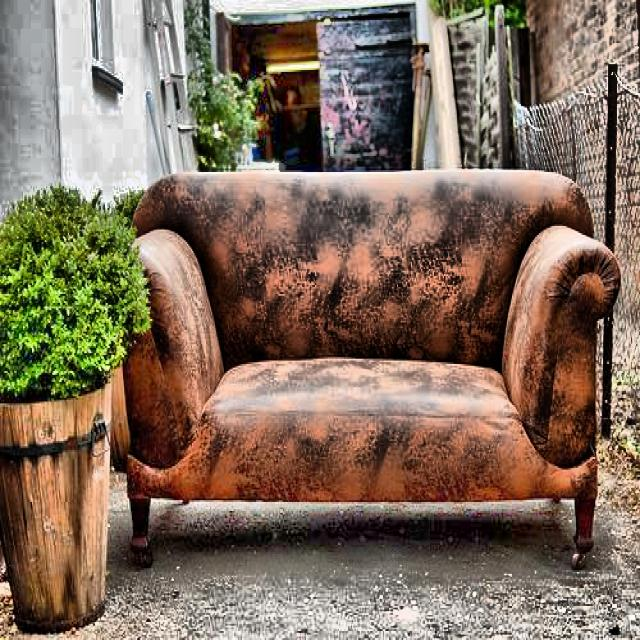sofa: (111, 170, 622, 566)
